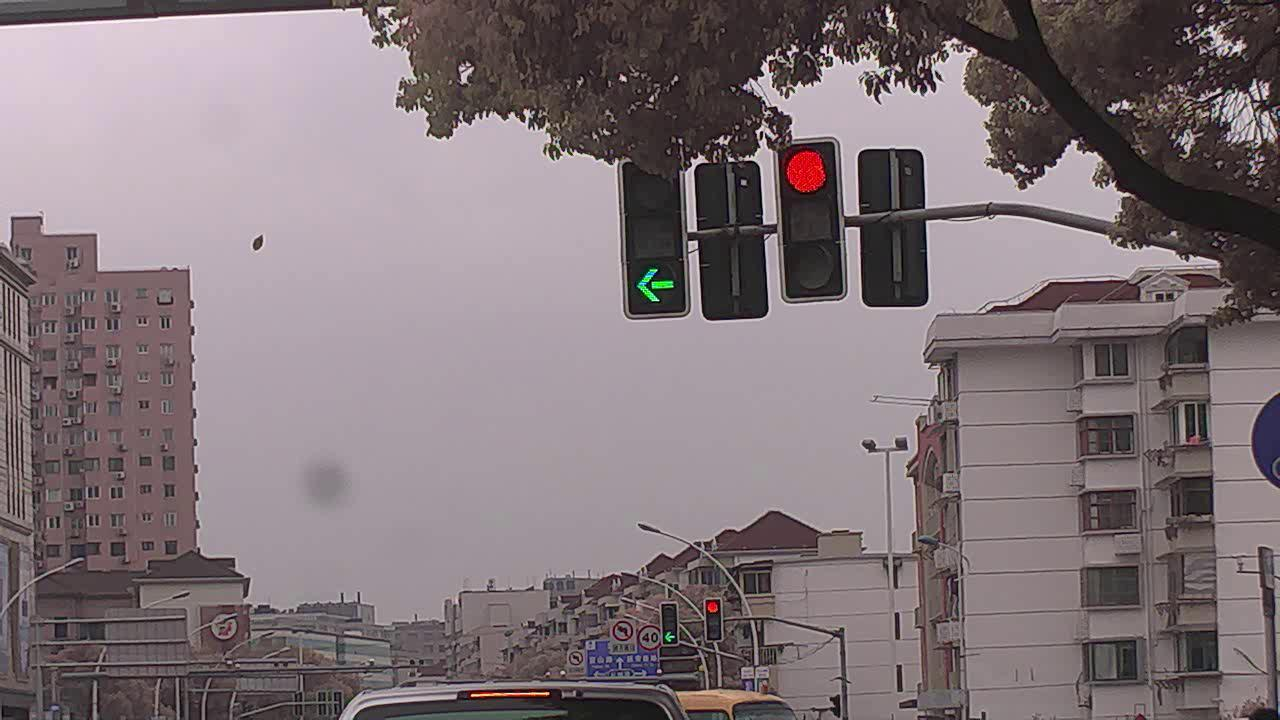traffic_light: (616, 157, 688, 316), (774, 143, 847, 298)
